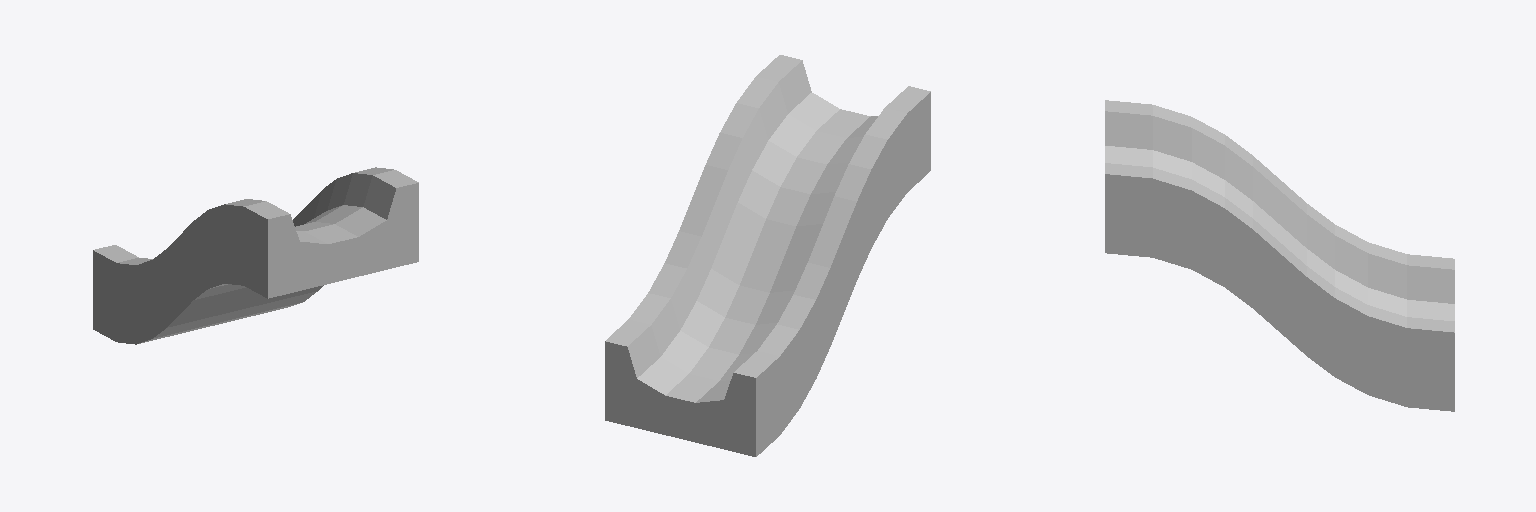
Rendered from ramp-long-c.obj.
3 renders of one model, left to right at view 1: azimuth 30°, elevation 25°; view 2: azimuth 150°, elevation 25°; view 3: azimuth 270°, elevation 25°, orthographic.
Parts seen in each view (by area): view 1: ramp-long-c; view 2: ramp-long-c; view 3: ramp-long-c.
Boxes of the visible parts, box(x1,y1,x2,y2) form: ramp-long-c: box(93, 167, 418, 344); ramp-long-c: box(605, 55, 930, 456); ramp-long-c: box(1105, 100, 1454, 411).
Size of the model in its own units: 1 by 1.5 by 2.